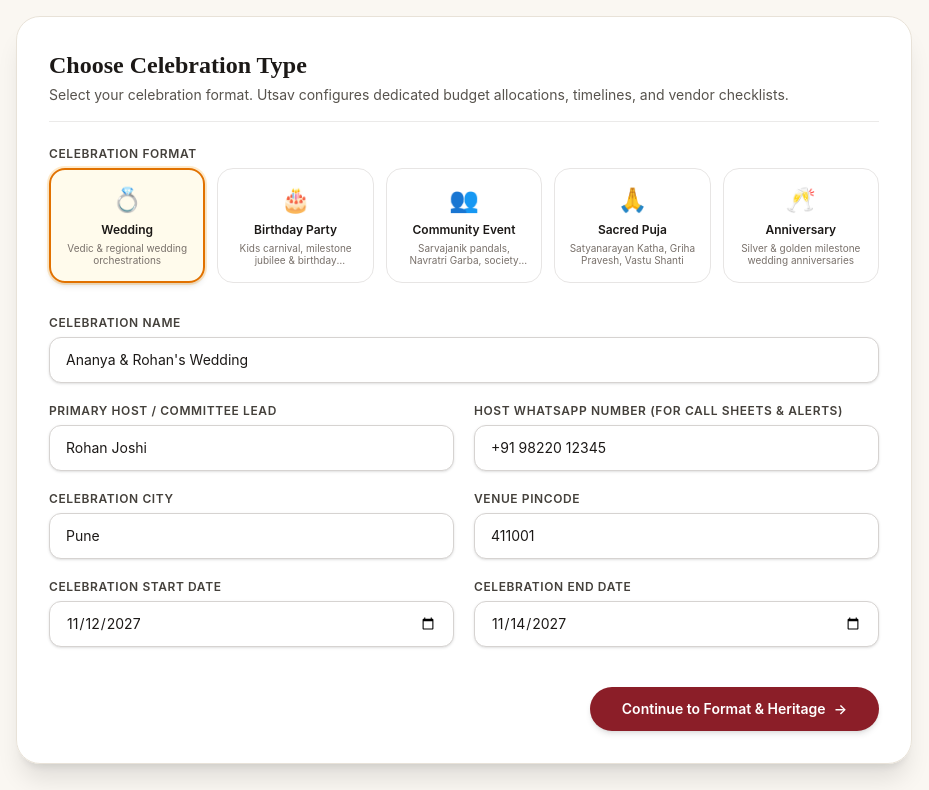
Test: OnboardingPage Component › navigates to Step 2: Cultural Tradition Selection
This screenshot has width=929, height=790.
(page scrolled)
# Click "Continue to Format & Heritage→"
Click the button named "Continue to Format & Heritage→". click: click(734, 708)
box: x1=590 y1=686 x2=879 y2=730
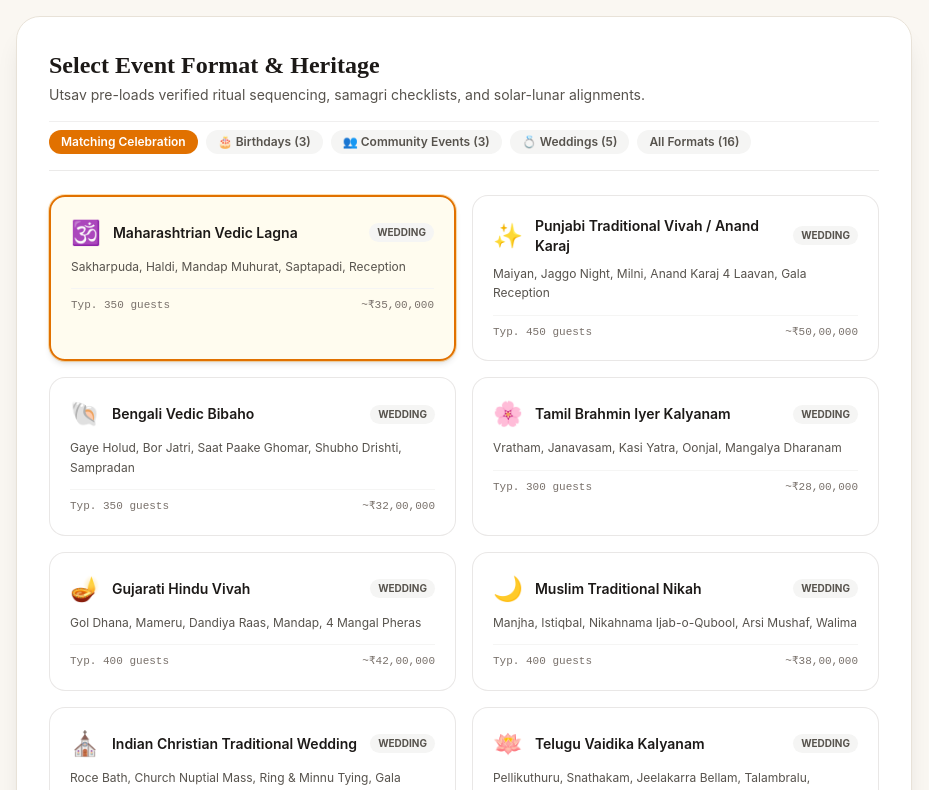
Expected: the heading "Select Event Format & Heritage" is shown, x1=49 y1=52 x2=380 y2=78
Expected: the heading "Maharashtrian Vedic Lagna" is shown, x1=113 y1=222 x2=298 y2=242
Expected: the heading "Punjabi Traditional Vivah / Anand Karaj" is shown, x1=535 y1=216 x2=793 y2=256
